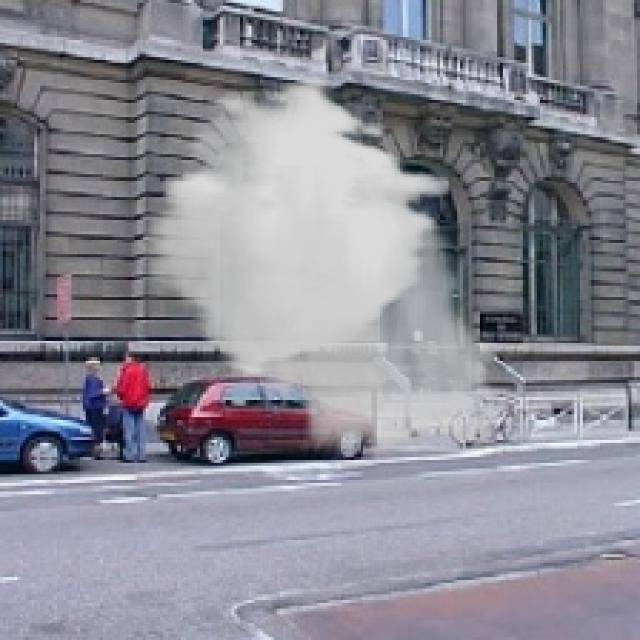smoke: (143, 74, 520, 469)
